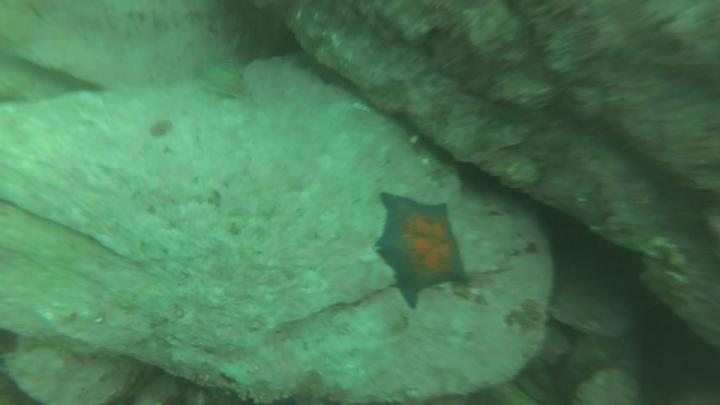starfish: (374, 188, 471, 312)
